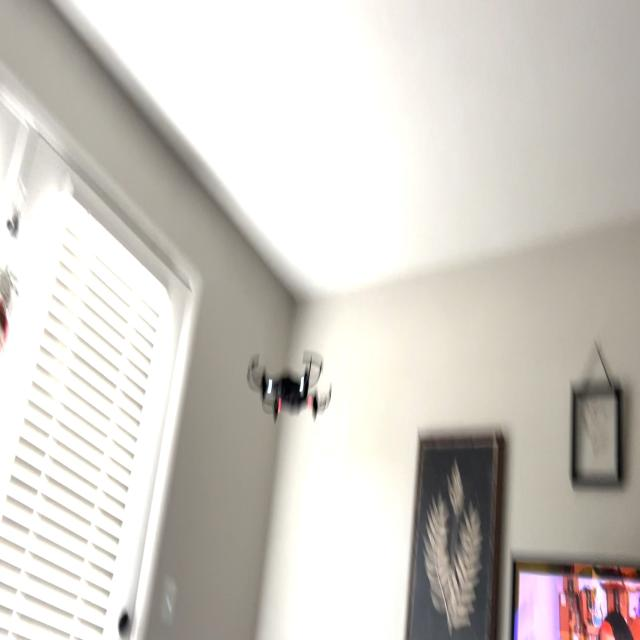drone: (238, 336, 344, 436)
